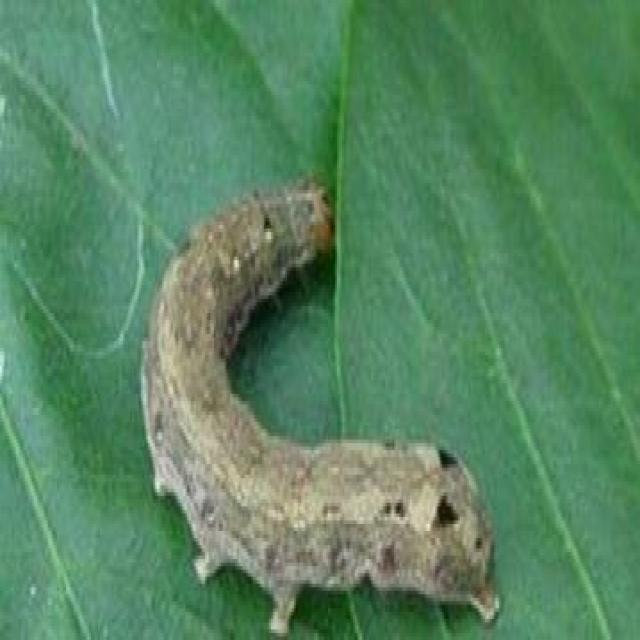BeetArmyWorm-Larva-: (135, 174, 516, 630)
